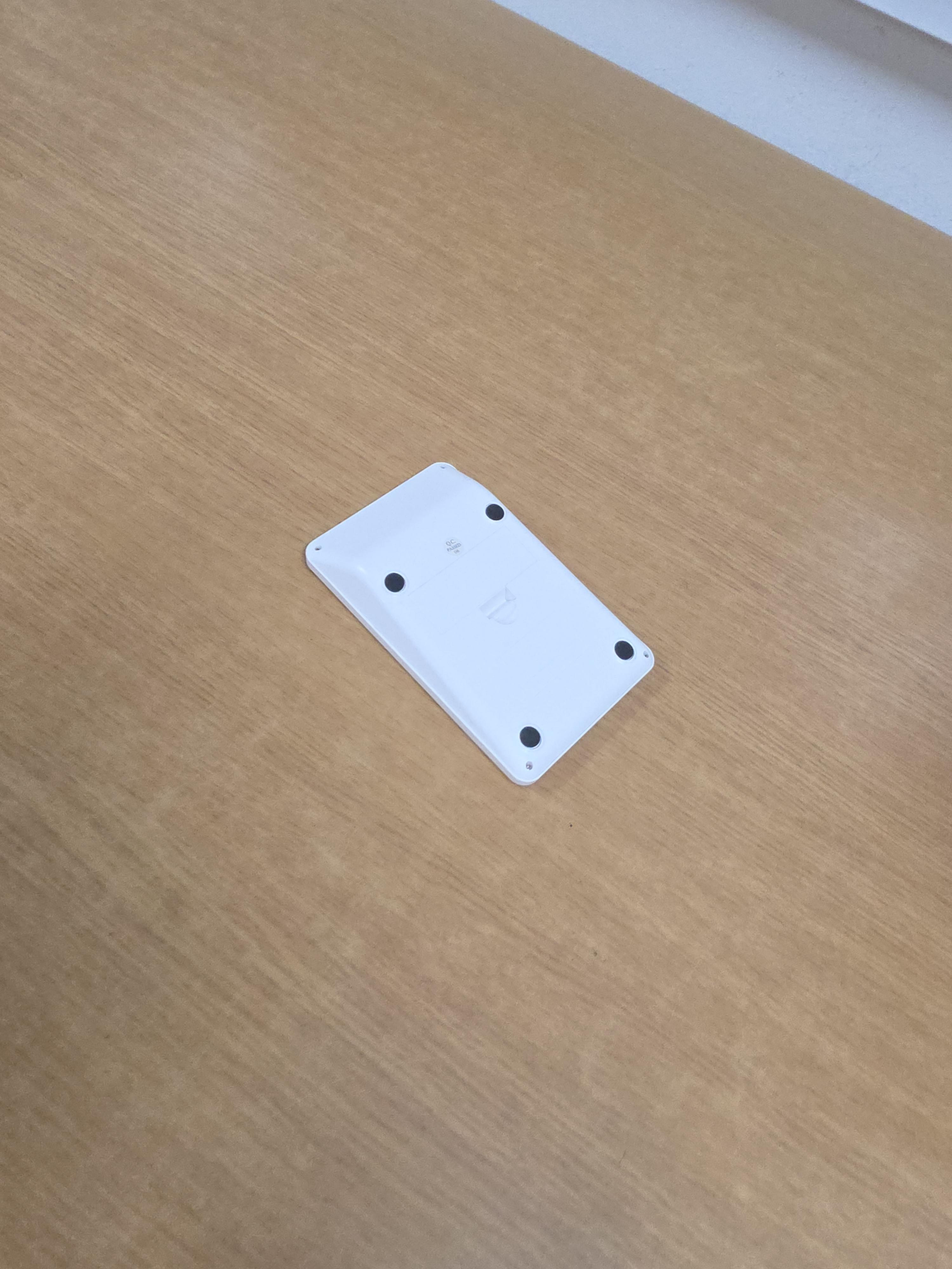calculator: (305, 462, 654, 785)
